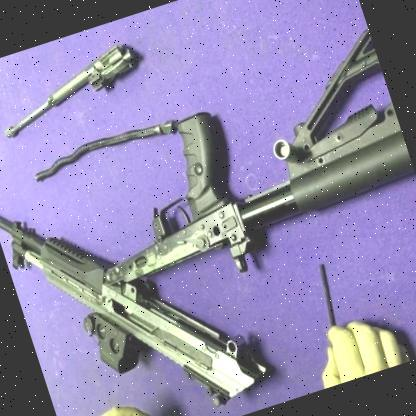rifle: (0, 24, 416, 416)
